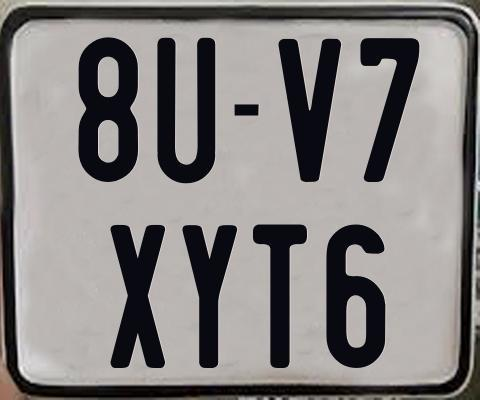6: (325, 224, 386, 373)
7: (357, 36, 421, 182)
8: (76, 35, 138, 180)
T: (250, 221, 307, 367)
U: (156, 35, 215, 184)
V: (278, 39, 345, 185)
X: (107, 223, 163, 372)
Y: (181, 224, 237, 370)
